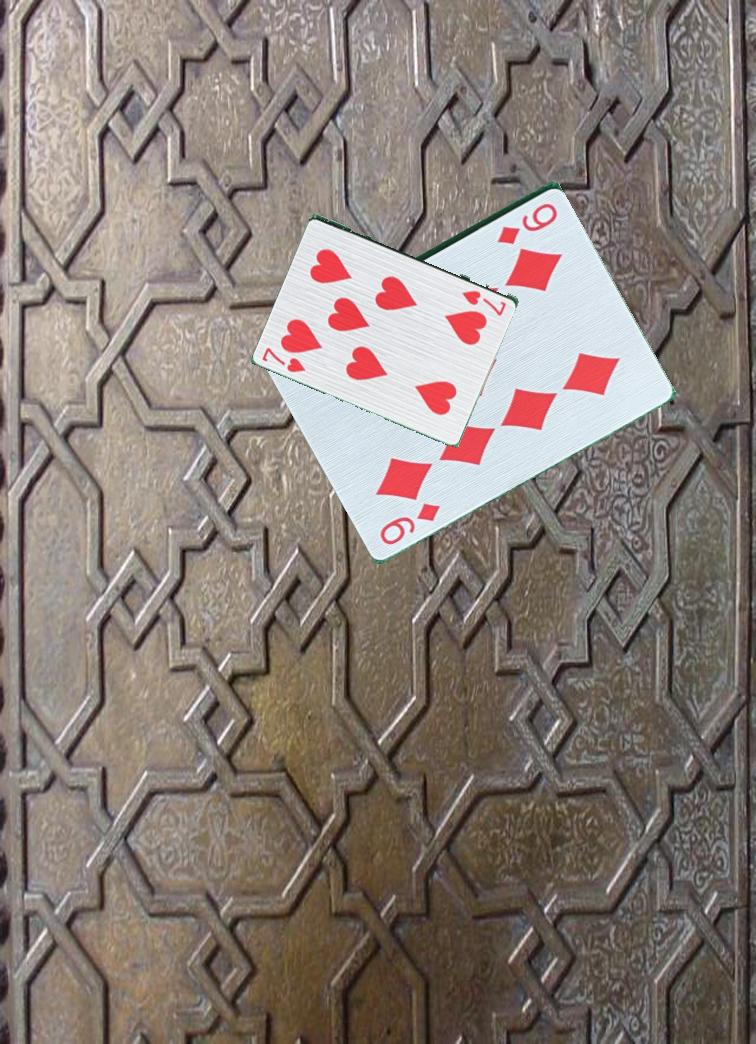7h: (259, 340, 316, 375), (458, 286, 513, 318)
9d: (369, 498, 444, 548), (494, 198, 561, 247)
